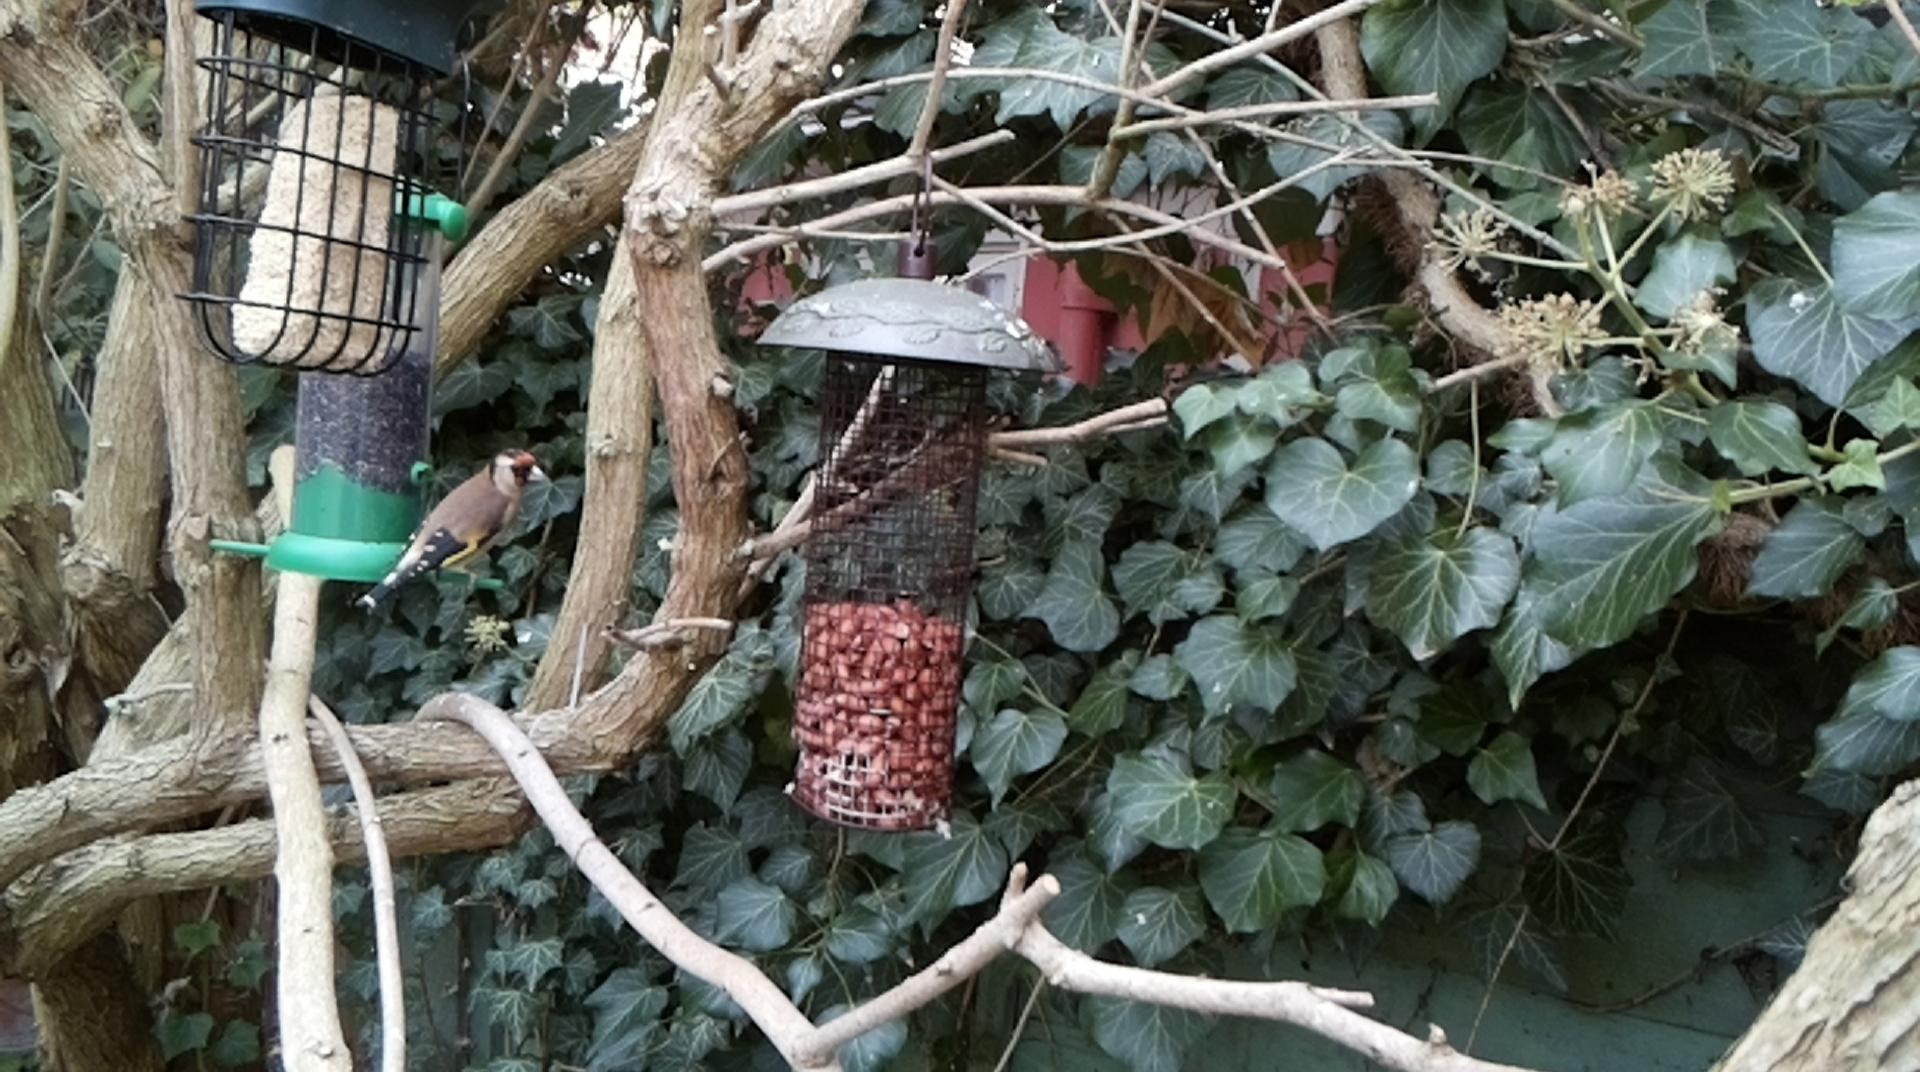goldfinch: (353, 446, 556, 622)
